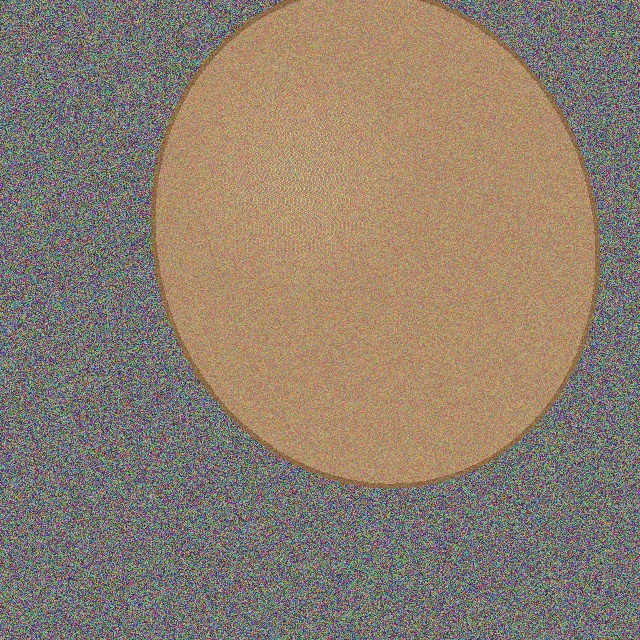lens: (153, 0, 597, 486)
